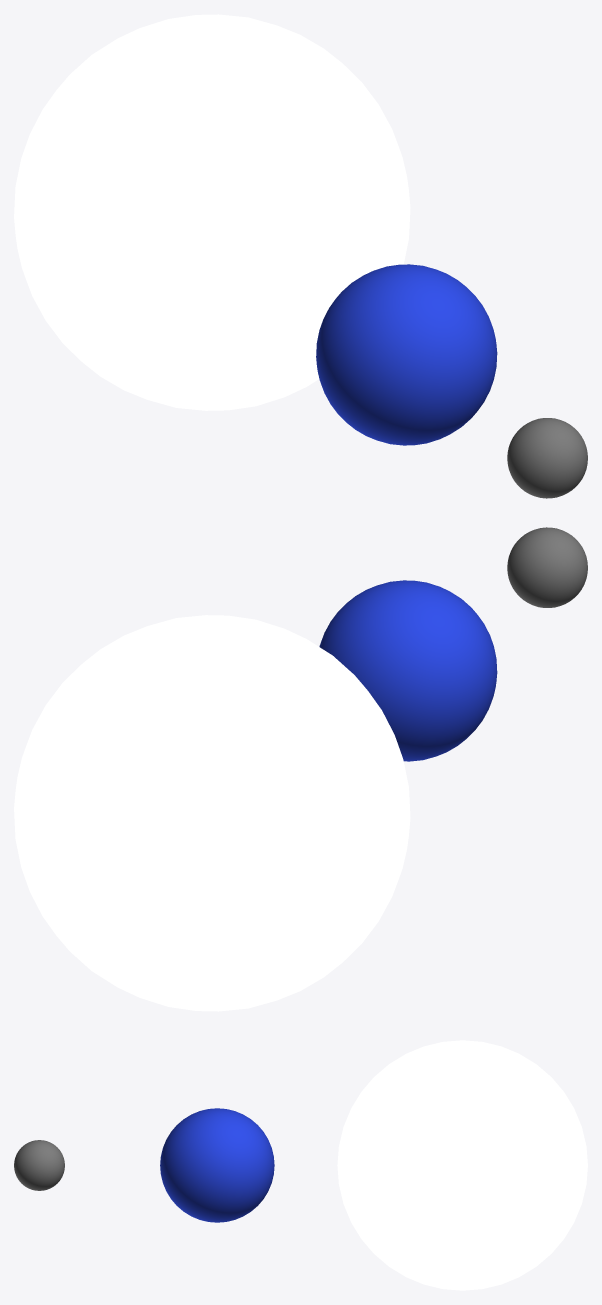
Rendered from earht.gltf.
3 views of the same model, one above another, from view 1: azimuth 30°, elevation 25°; view 2: azimuth 150°, elevation 25°; view 3: azimuth 270°, elevation 25° (orthographic). The views are drawn at different scales.
Visible parts, largest first — view 1: Icosphere.001, Icosphere, Icosphere.002; view 2: Icosphere.001, Icosphere, Icosphere.002; view 3: Icosphere.001, Icosphere, Icosphere.002.
Boxes of the visible parts, x1,y1,x2,y2 form: Icosphere.001: (14,14,410,410); Icosphere: (316,264,497,445); Icosphere.002: (507,418,587,498); Icosphere.001: (14,615,410,1011); Icosphere: (319,580,497,761); Icosphere.002: (507,527,587,607); Icosphere.001: (337,1040,587,1290); Icosphere: (160,1108,274,1222); Icosphere.002: (14,1140,64,1190).
Size of the model in its own units: 10.24 by 10.24 by 23.45.
